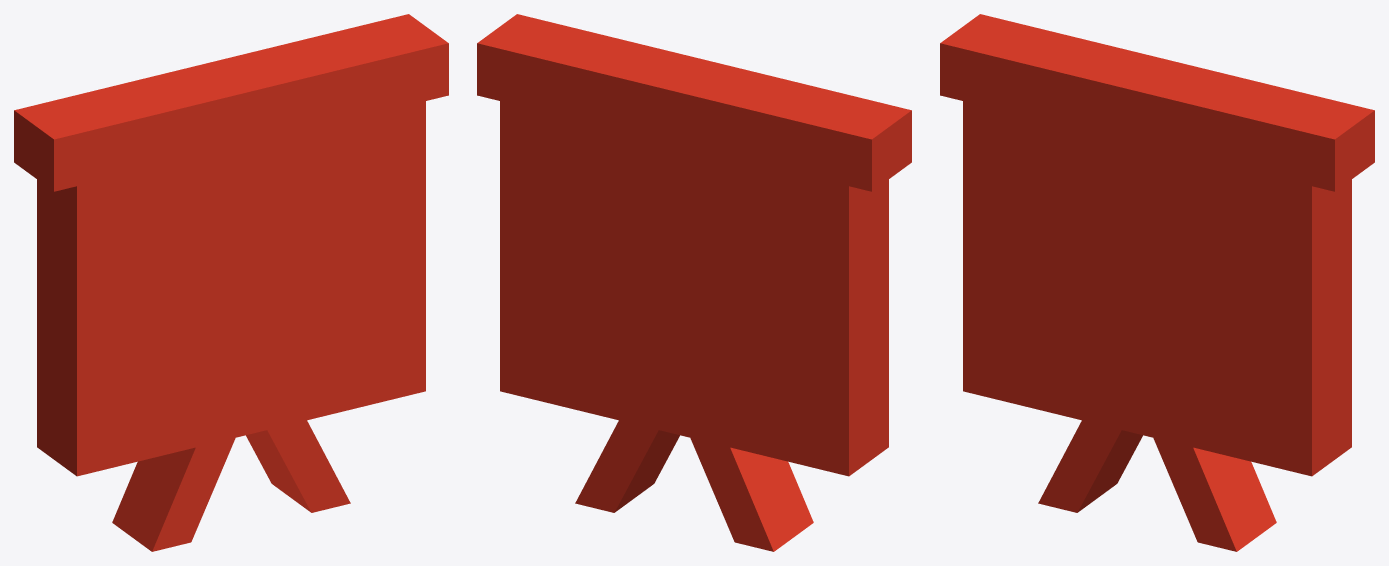
Rendered from Icon_Chart_05.fbx.
The picture shows the model from 3 angles, left to right: view 1: azimuth 30°, elevation 25°; view 2: azimuth 150°, elevation 25°; view 3: azimuth 330°, elevation 25°; orthographic projection.
Visible parts, largest first — view 1: Icon_Chart_05; view 2: Icon_Chart_05; view 3: Icon_Chart_05.
Part boxes in pixels (x1,y1,x2,y2): Icon_Chart_05: [14, 14, 448, 551]; Icon_Chart_05: [477, 14, 911, 551]; Icon_Chart_05: [940, 14, 1374, 551].
Size of the model in its own units: 68.79 by 72.67 by 12.06.
